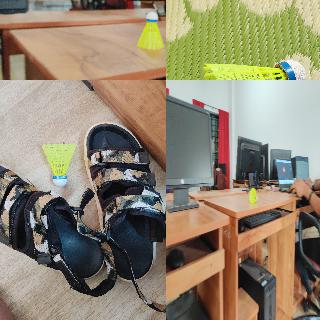shuttlecock: (203, 59, 306, 79), (39, 142, 77, 185), (136, 11, 165, 50), (248, 186, 258, 204)
